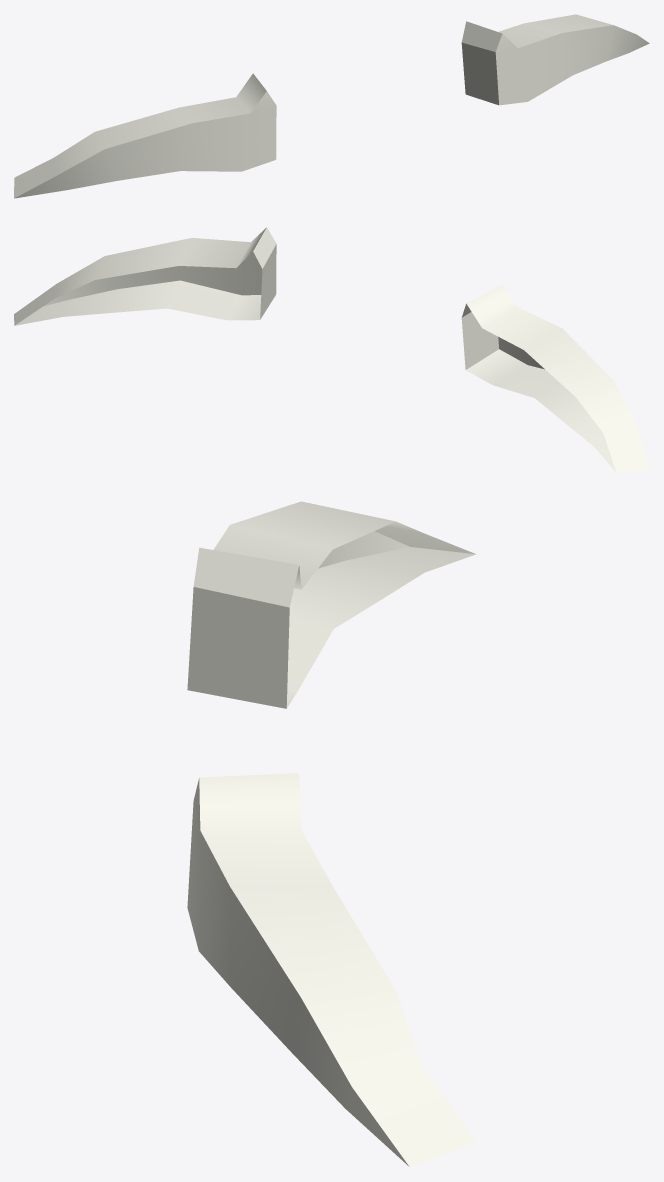
Rendered from Brow_White_3.fbx.
3 renders of one model, top to bottom at view 1: azimuth 30°, elevation 25°; view 2: azimuth 150°, elevation 25°; view 3: azimuth 270°, elevation 25°, orthographic. The views are drawn at different scales.
Visible parts, largest first — view 1: Brow_White_3; view 2: Brow_White_3; view 3: Brow_White_3.
Boxes of the visible parts, x1,y1,x2,y2 form: Brow_White_3: [14, 14, 649, 198]; Brow_White_3: [14, 227, 649, 472]; Brow_White_3: [187, 501, 476, 1167].
Size of the model in its own units: 32.72 by 4.78 by 6.44.
